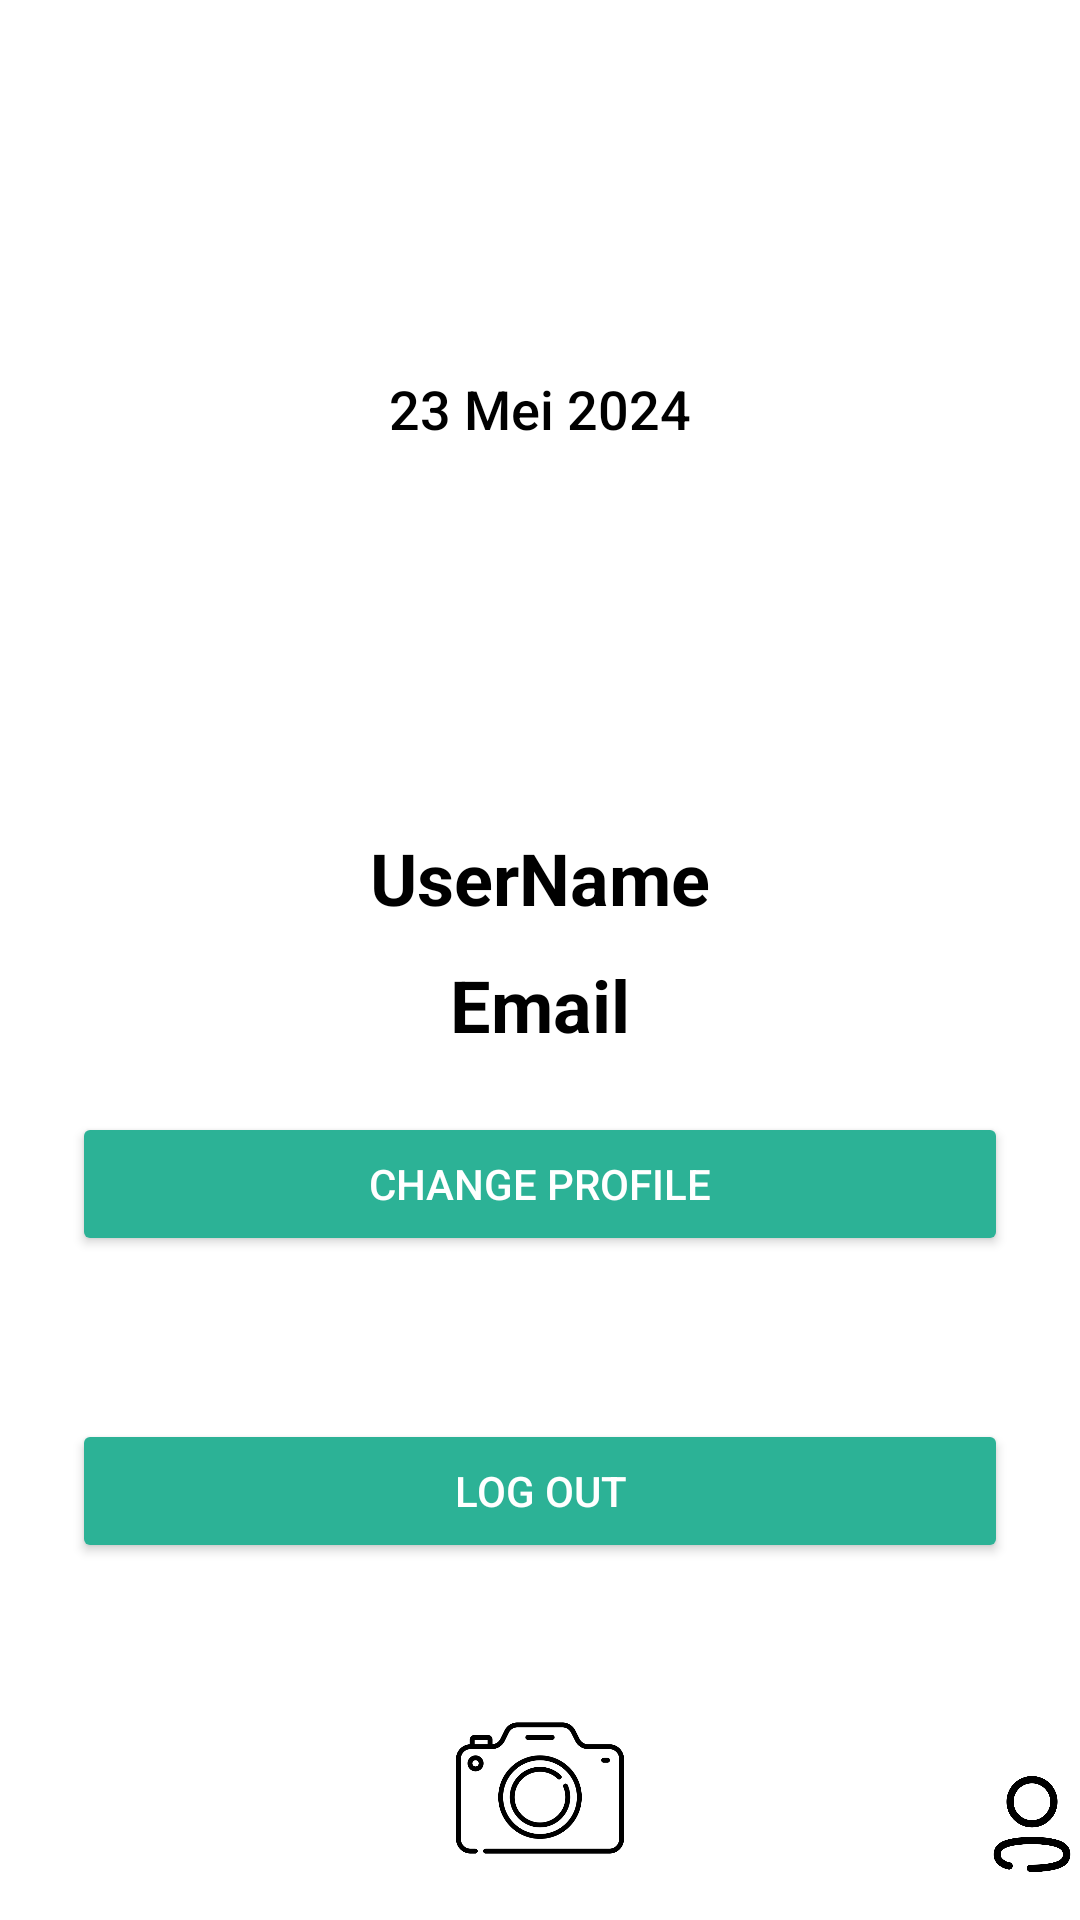

Point at icon controls on the screen. Image size 1080px×1920px, points as (x,y).
camera: (540,1788)
profilecandidate: (1032,1824)
